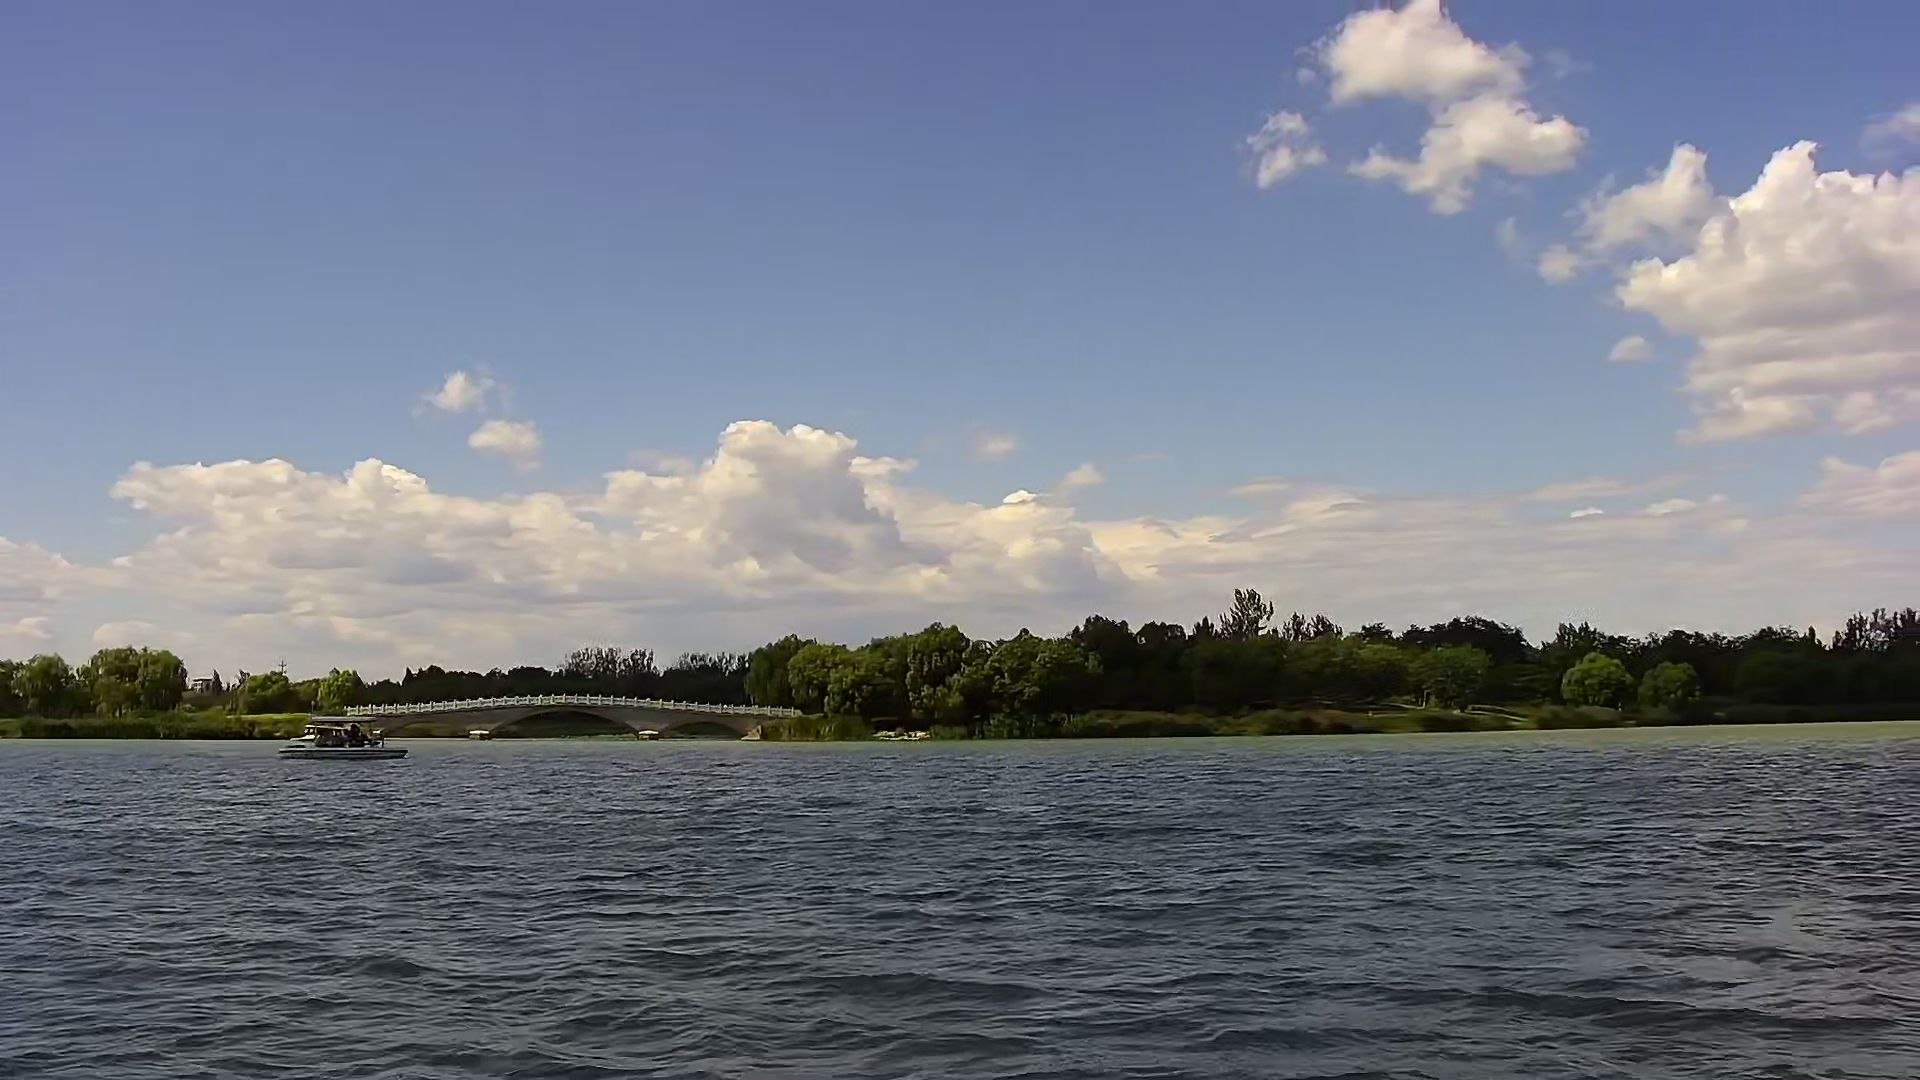boat: (273, 698, 397, 767)
bridge: (375, 686, 808, 740)
